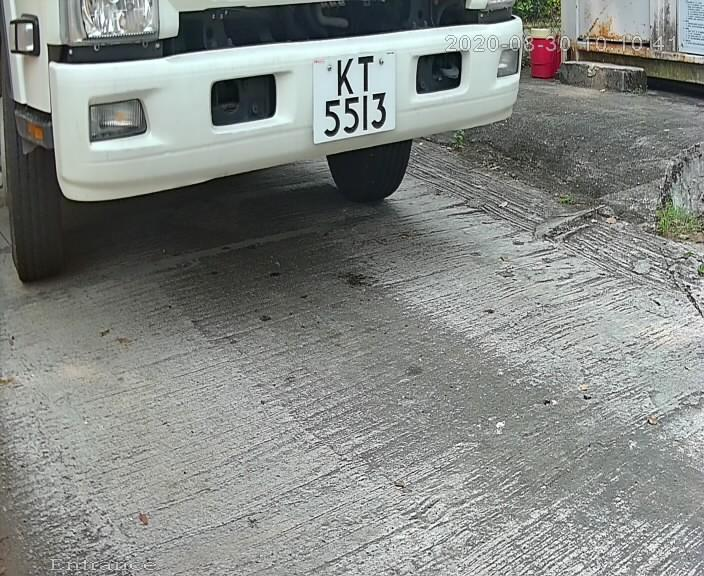License Plate: (280, 39, 412, 163)
